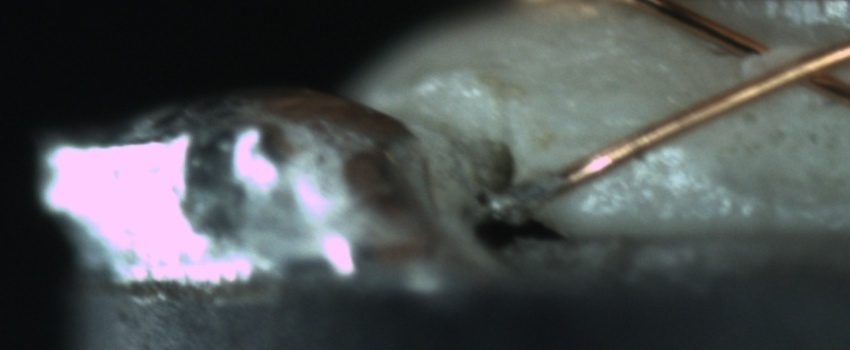CL: (728, 16, 850, 105)
TS: (478, 173, 556, 221)
